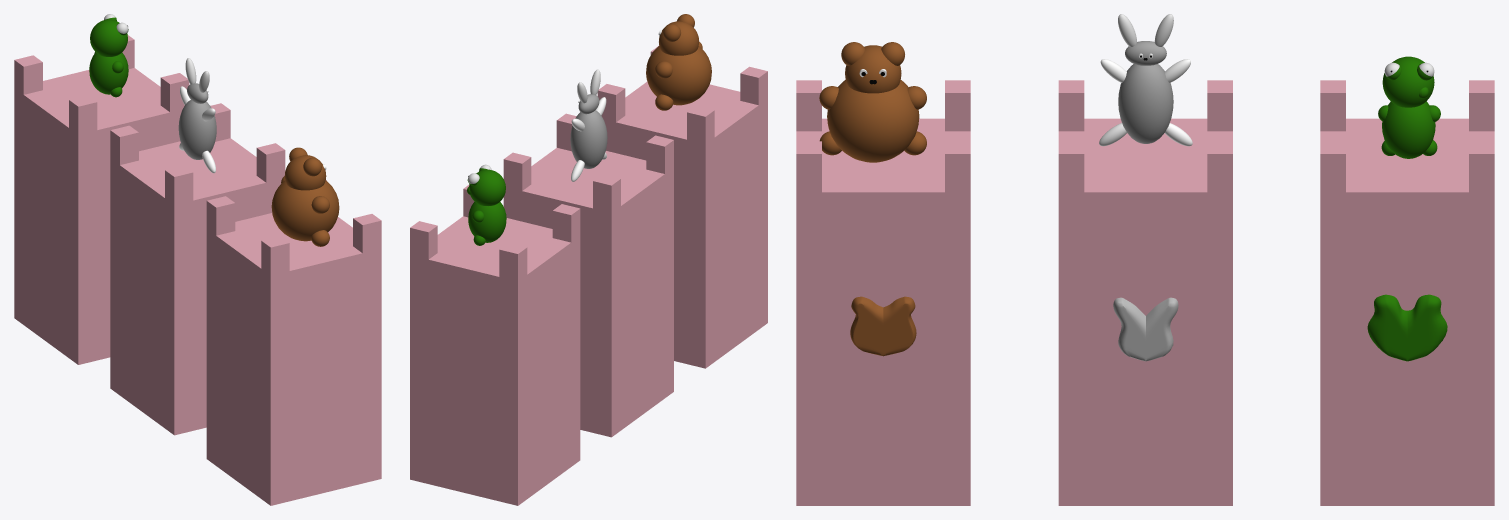
The model's file is Puzzle1 1.fbx.
3 renders of one model, left to right at view 1: azimuth 30°, elevation 25°; view 2: azimuth 150°, elevation 25°; view 3: azimuth 270°, elevation 25°, orthographic. The views are drawn at different scales.
Visible parts, largest first — view 1: Cube.004, Cube, Cube.002, Sphere, Sphere.005, Sphere.010, Sphere.011, Sphere.001, Sphere.002, Sphere.007; view 2: Cube.002, Cube, Cube.004, Sphere, Sphere.005, Sphere.010, Sphere.011, Sphere.001, Sphere.002; view 3: Cube, Cube.002, Cube.004, Sphere, Cube.003, Sphere.005, Cube.005, Cube.001, Sphere.010, Sphere.001, Sphere.011, Sphere.002 (+2 smaller).
Boxes of the visible parts, x1,y1,x2,y2 form: Cube.004: (206, 180, 381, 505); Cube: (110, 103, 285, 435); Cube.002: (14, 35, 189, 364); Sphere: (271, 180, 339, 241); Sphere.005: (178, 100, 216, 159); Sphere.010: (89, 52, 128, 94); Sphere.011: (90, 19, 127, 56); Sphere.001: (285, 155, 326, 190); Sphere.002: (289, 147, 321, 176); Sphere.007: (185, 58, 209, 92); Cube.002: (410, 185, 580, 505); Cube: (503, 113, 673, 437); Cube.004: (597, 45, 767, 368); Sphere: (646, 46, 711, 105); Sphere.005: (570, 110, 607, 168); Sphere.010: (468, 201, 506, 242); Sphere.011: (469, 169, 505, 205); Sphere.001: (659, 21, 698, 55); Sphere.002: (663, 14, 694, 41); Cube: (1058, 80, 1232, 505); Cube.002: (1320, 80, 1494, 505); Cube.004: (796, 80, 970, 505); Sphere: (827, 80, 919, 162); Cube.003: (1367, 294, 1447, 361); Sphere.005: (1118, 64, 1173, 143); Cube.005: (850, 296, 916, 356); Cube.001: (1113, 297, 1178, 361); Sphere.010: (1382, 101, 1435, 158); Sphere.001: (845, 45, 901, 93); Sphere.011: (1382, 56, 1434, 107); Sphere.002: (841, 42, 904, 65).
Size of the model in its own units: 211 by 801 by 576.
